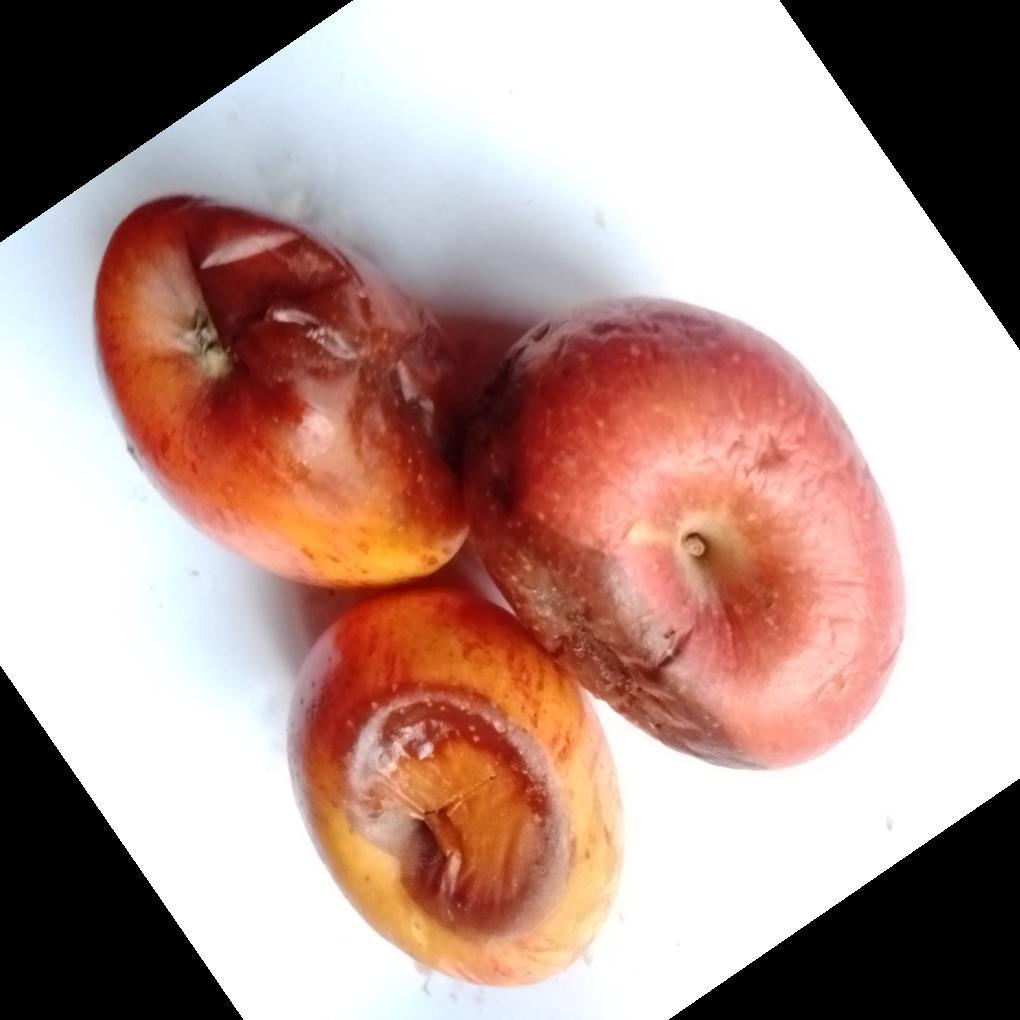FreshOrange: (93, 196, 907, 991)
